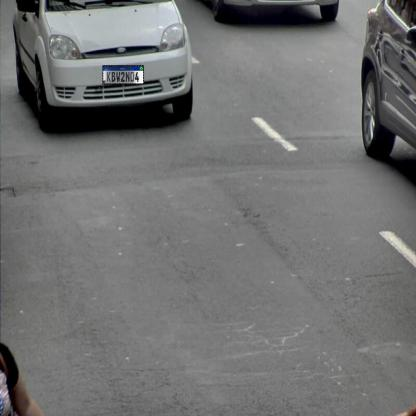PlacaM: (102, 65, 144, 85)
